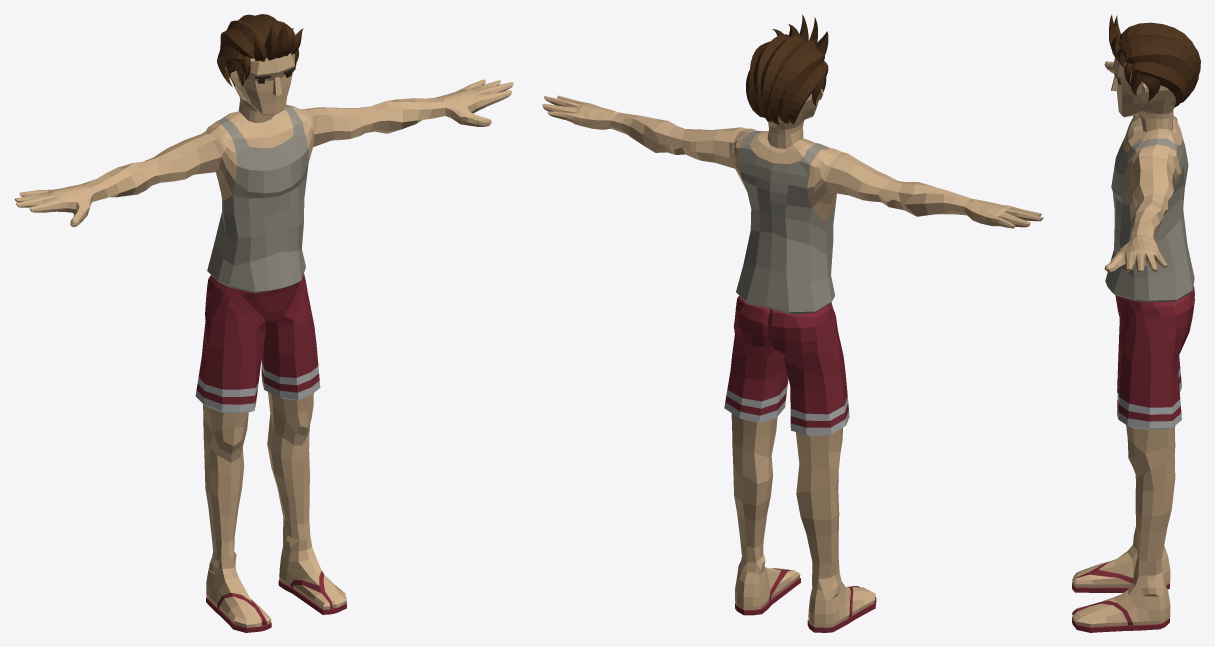
File: hero.fbx
3 renders of one model, left to right at view 1: azimuth 30°, elevation 25°; view 2: azimuth 150°, elevation 25°; view 3: azimuth 270°, elevation 25°, orthographic.
Parts seen in each view (by area): view 1: Beach_Body, Beach_Legs, Beach_Head, Beach_Feet; view 2: Beach_Body, Beach_Legs, Beach_Head, Beach_Feet; view 3: Beach_Legs, Beach_Body, Beach_Head, Beach_Feet.
Boxes of the visible parts, x1,y1,x2,y2 form: Beach_Body: [14, 79, 513, 292]; Beach_Legs: [195, 273, 320, 558]; Beach_Head: [217, 14, 303, 122]; Beach_Feet: [206, 533, 346, 632]; Beach_Body: [542, 95, 1043, 314]; Beach_Legs: [724, 296, 849, 579]; Beach_Head: [746, 14, 828, 148]; Beach_Feet: [735, 554, 876, 632]; Beach_Legs: [1115, 286, 1194, 576]; Beach_Body: [1104, 61, 1194, 302]; Beach_Head: [1109, 14, 1200, 131]; Beach_Feet: [1072, 536, 1170, 632].
Bounding box in the file's own units: 168 × 188 × 37.4.
